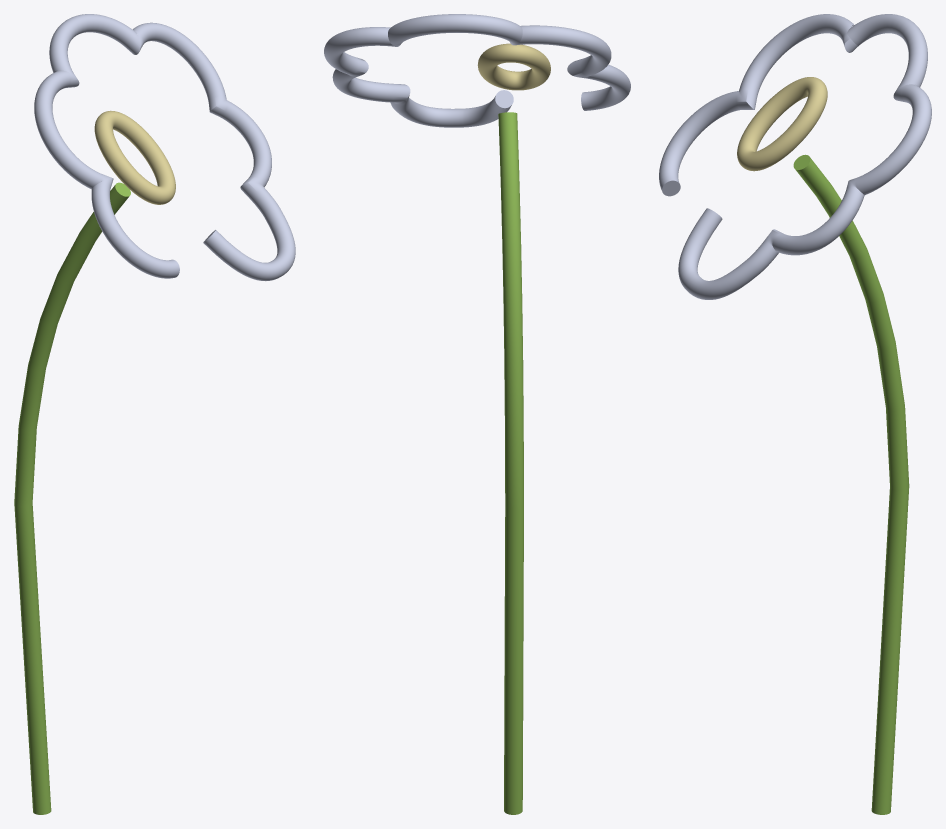
3 renders of one model, left to right at view 1: azimuth 30°, elevation 25°; view 2: azimuth 150°, elevation 25°; view 3: azimuth 270°, elevation 25°, orthographic. The views are drawn at different scales.
Visible parts, largest first — view 1: Sweep, Deckfläche_1, Sweep_15; view 2: Deckfläche_1, Sweep, Sweep_15; view 3: Sweep, Deckfläche_1, Sweep_15.
Part boxes in pixels (x1,y1,x2,y2): Sweep: (34,14,295,281); Deckfläche_1: (14,182,130,814); Sweep_15: (94,110,175,204); Deckfläche_1: (498,112,523,814); Sweep: (324,14,630,127); Sweep_15: (477,43,550,90); Sweep: (659,14,931,299); Deckfläche_1: (793,154,909,814); Sweep_15: (737,77,827,171).
Bounding box in the file's own units: 0.7952 × 2.43 × 0.7397.
